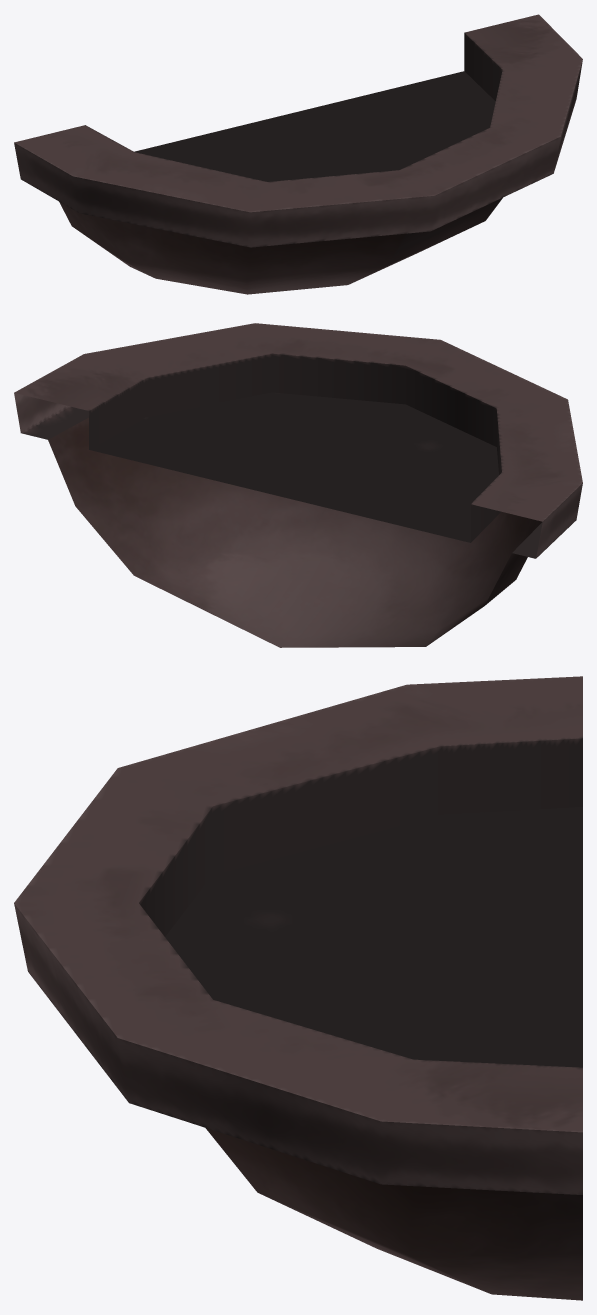
File: Torch2.FBX
The picture shows the model from 3 angles, top to bottom: view 1: azimuth 30°, elevation 25°; view 2: azimuth 150°, elevation 25°; view 3: azimuth 270°, elevation 25°; orthographic projection. The views are drawn at different scales.
Parts seen in each view (by area): view 1: Object080; view 2: Object080; view 3: Object080.
Part boxes in pixels (<box>): Object080: <box>14,14,582,294</box>; Object080: <box>14,323,582,647</box>; Object080: <box>14,676,582,1300</box>.
Bounding box in the file's own units: 49.24 × 16.92 × 25.96.
